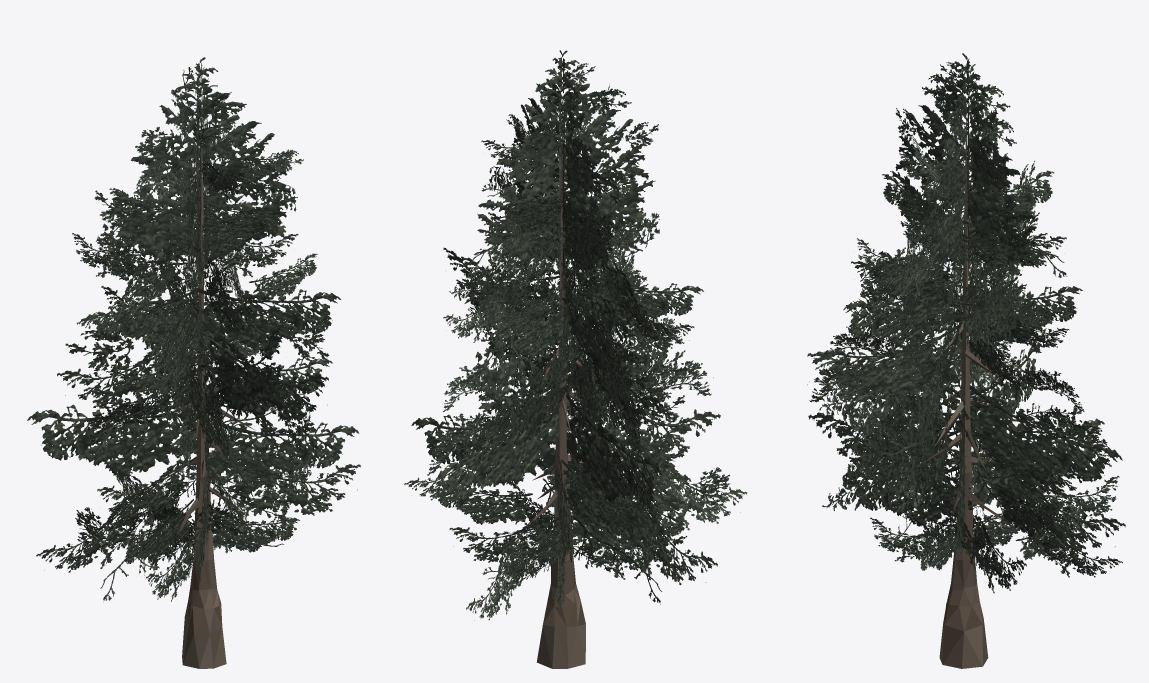
File: kiefer_n2.glb
3 views of the same model, side by side, from view 1: azimuth 30°, elevation 25°; view 2: azimuth 150°, elevation 25°; view 3: azimuth 270°, elevation 25° (orthographic).
Parts seen in each view (by area): view 1: laub, rinde; view 2: laub, rinde; view 3: laub, rinde.
Part boxes in pixels (x1=…): laub: x1=27, y1=57, x2=360, y2=602; rinde: x1=169, y1=105, x2=255, y2=668; laub: x1=404, y1=50, x2=747, y2=620; rinde: x1=525, y1=99, x2=603, y2=668; laub: x1=807, y1=53, x2=1125, y2=593; rinde: x1=917, y1=104, x2=1003, y2=668.
Size of the model in its own units: 6.81 by 11.9 by 6.29.
Materials: 2 (1 with a texture image).
